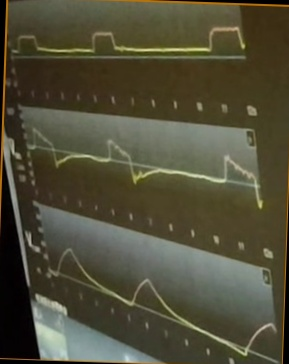Accumulation Flow: (28, 125, 263, 207)
Volume: (49, 246, 276, 356)
